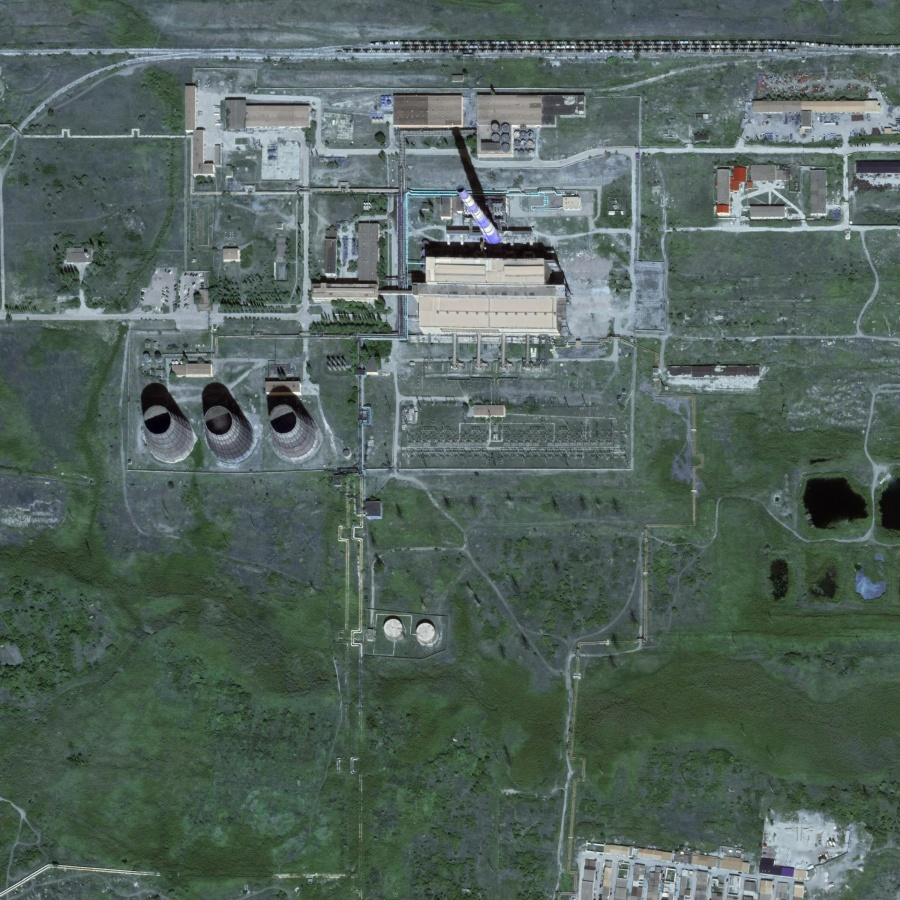PowerPlant: (114, 65, 596, 494)
